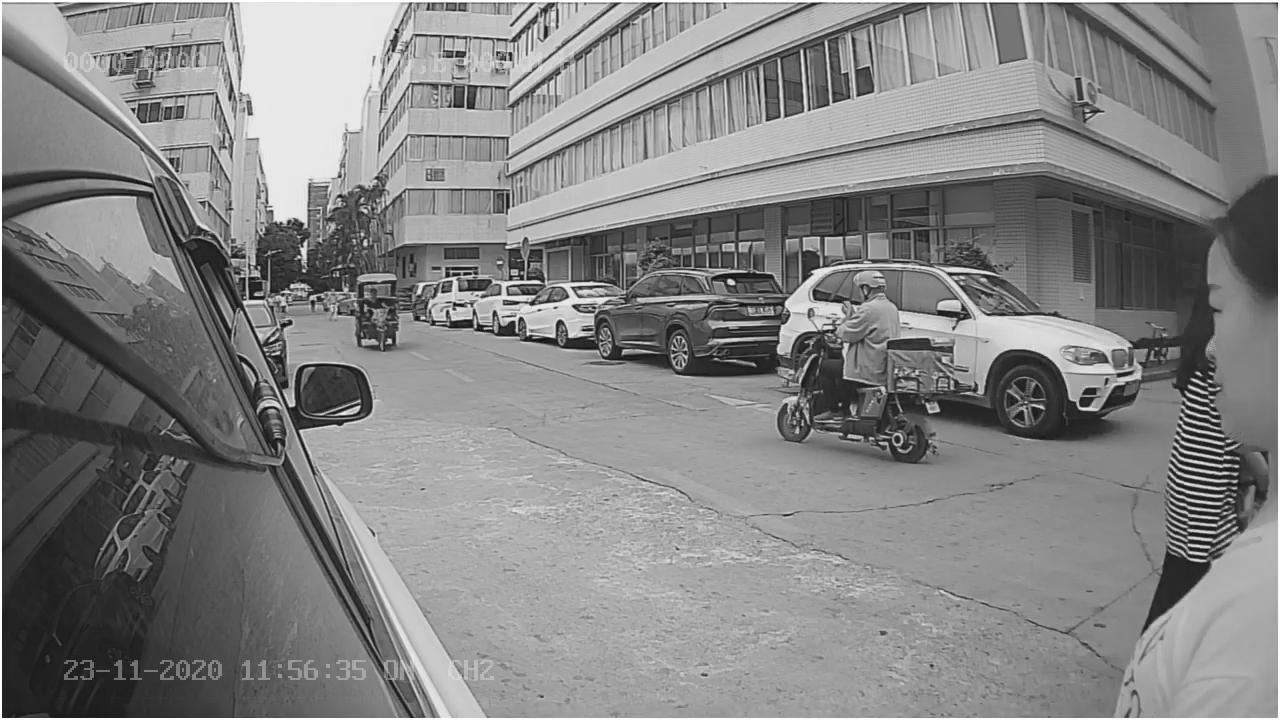person: (839, 268, 909, 341)
